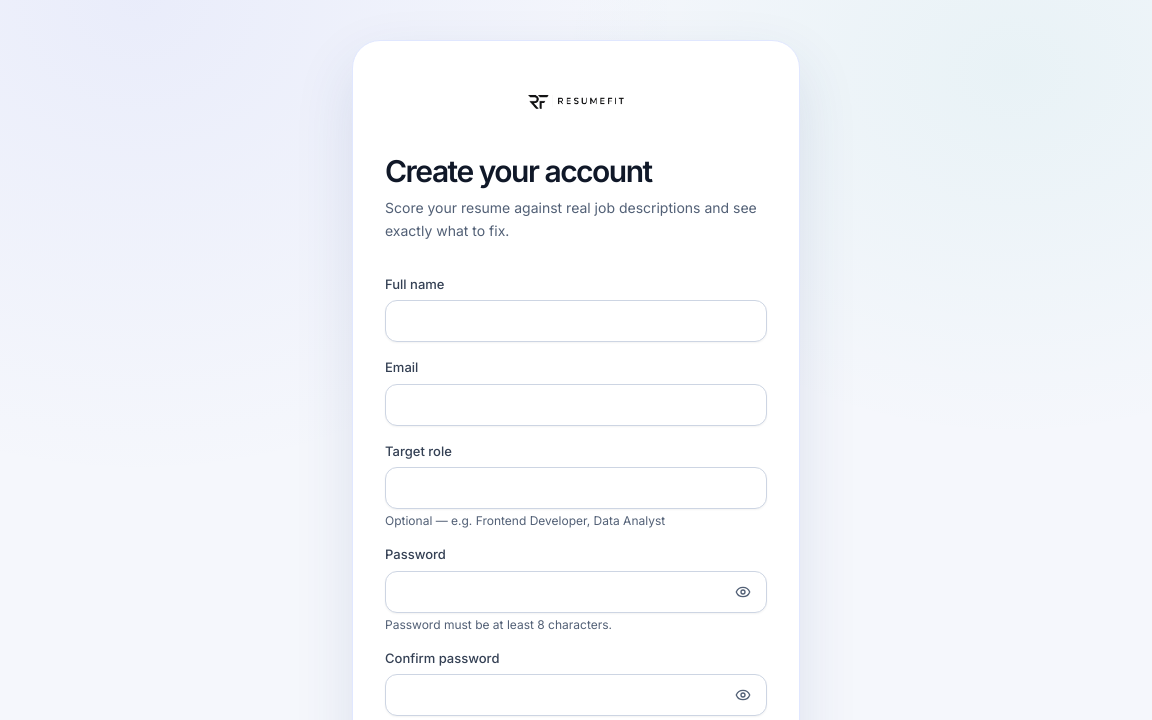
Test case: authentication password UX › keeps registration visibility controls independent and rejects mismatched passwords
Type "Aditi Sharma" into the field labelled "Full name" at (576, 321), box [385,300,767,342]
Type "aditi@example.com" into the field labelled "Email" at (576, 404), box [385,384,767,426]
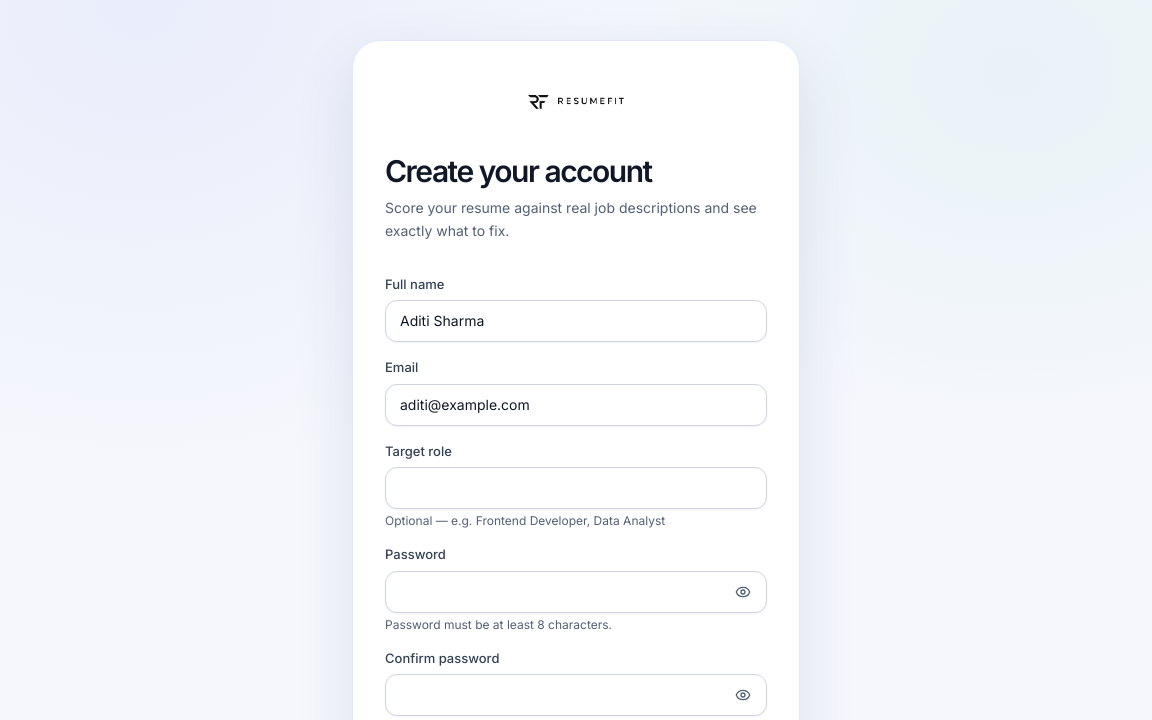
Type "StrongPass123!" into the password field labelled "Password" at (576, 592), box [385,570,767,612]
(page scrolled)
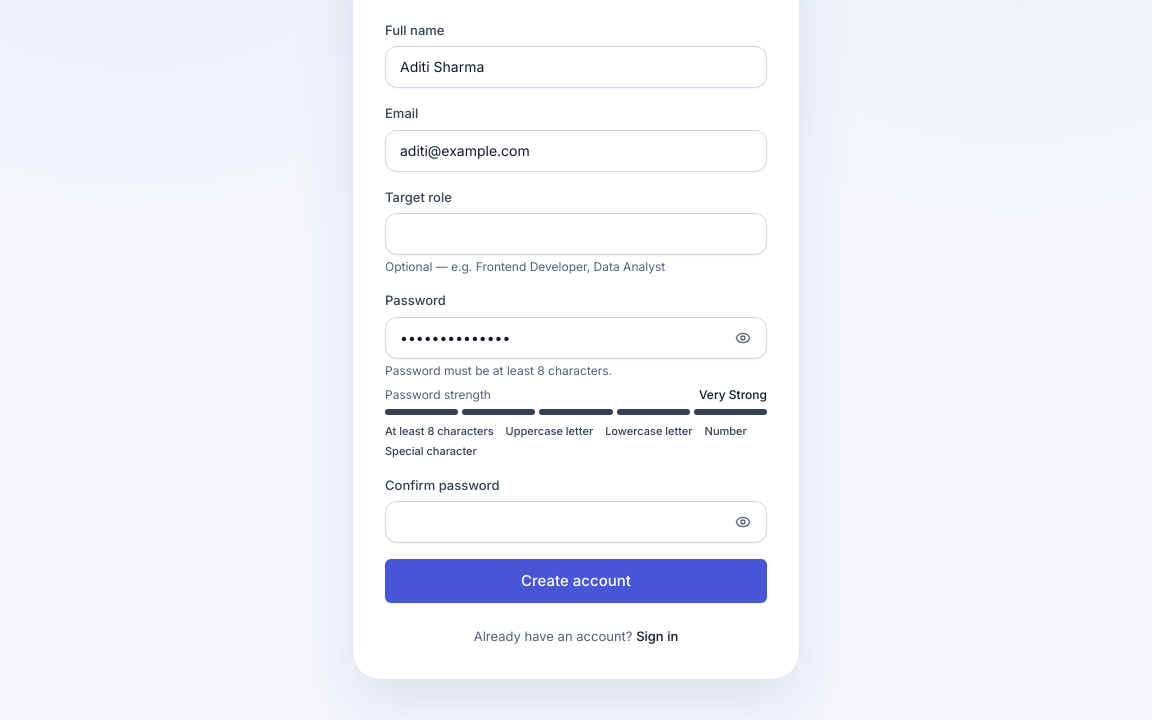
Type "DifferentPass123!" into the password field labelled "Confirm password" at (576, 522), box [385,501,767,543]
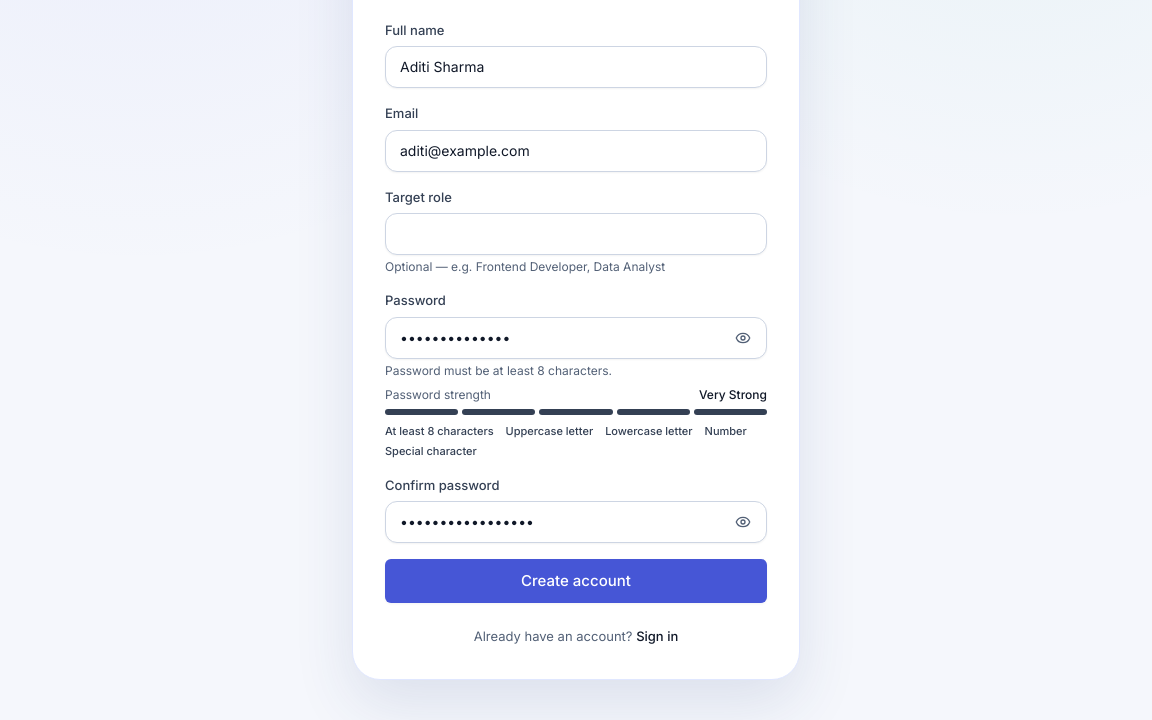
Click the 1st button named "Show password" at (743, 338), box [725,320,761,356]
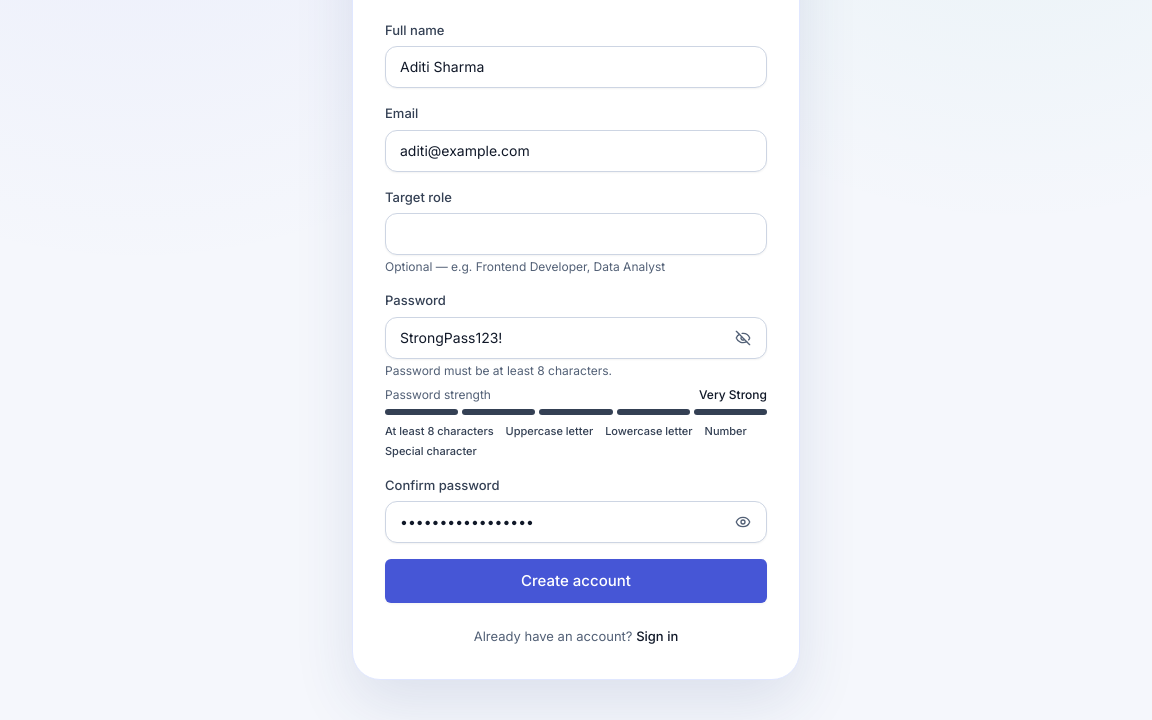
expect the field labelled "Password" shows its text: met, box [385,316,767,358]
Click the button named "Show password" at (743, 522), box [725,504,761,540]
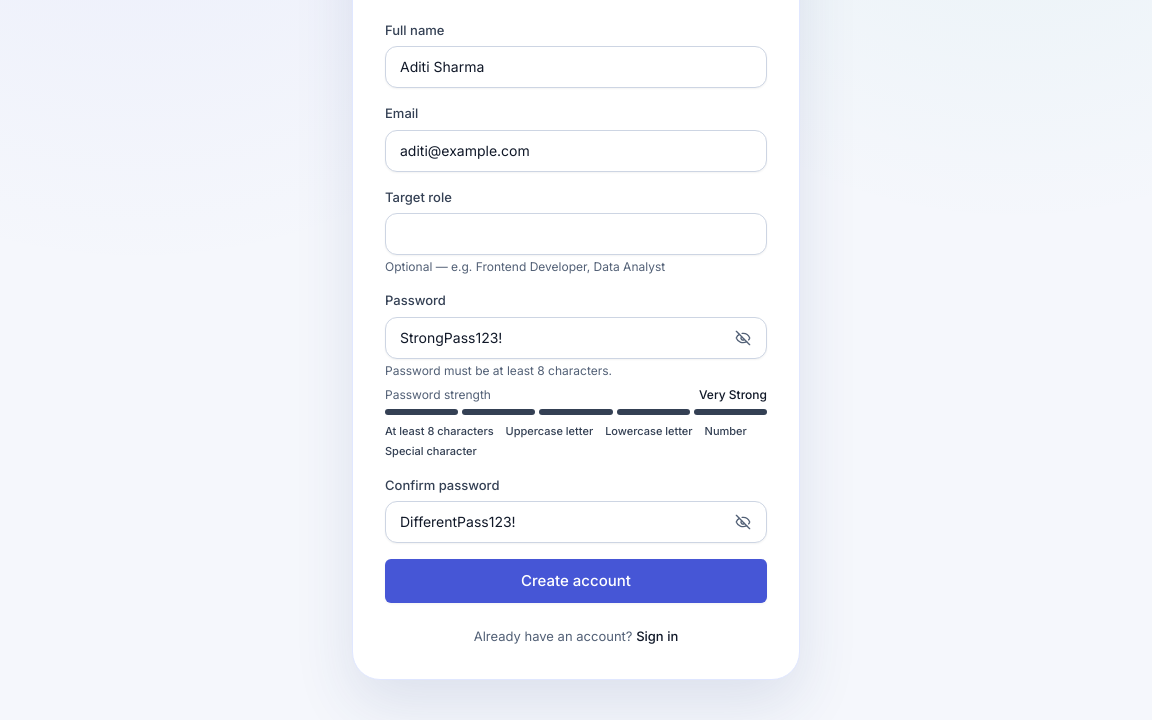
expect the field labelled "Confirm password" shows its text: met, box [385,501,767,543]
Click the button "Create account" at (576, 581), box [385,559,767,603]
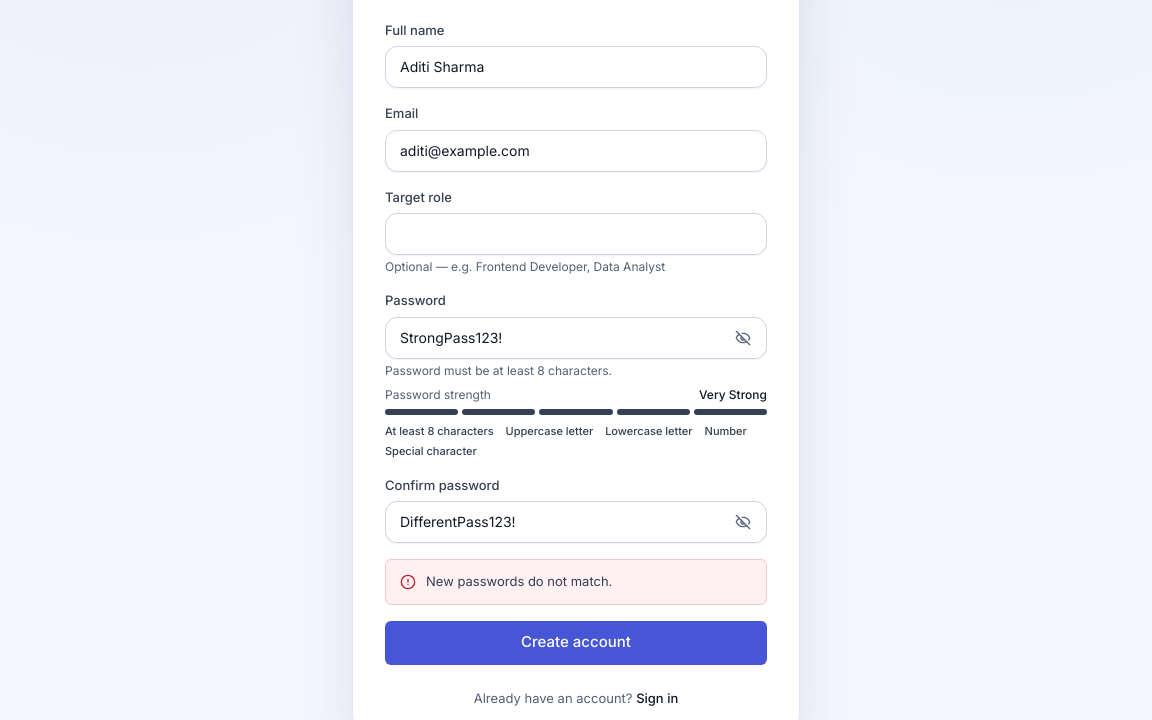
expect the message reads "New passwords do not match.": met, box [426,573,612,589]
